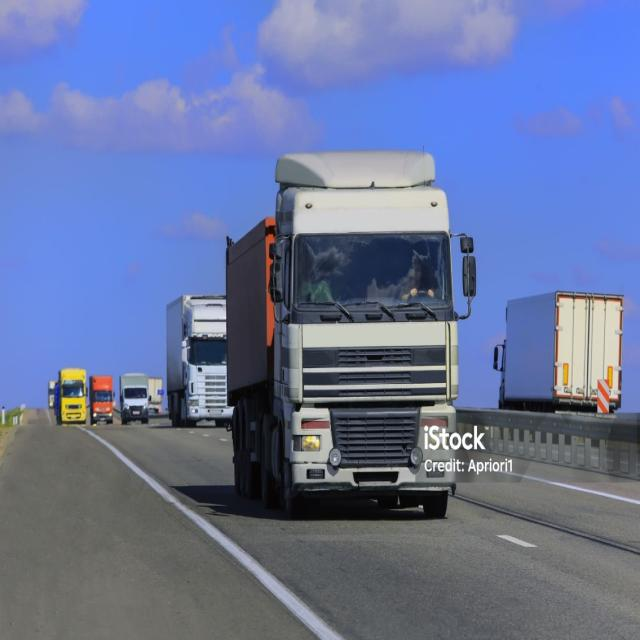truck: (224, 148, 476, 518), (492, 289, 624, 414), (165, 293, 234, 428), (53, 367, 87, 424), (120, 371, 151, 425), (88, 375, 115, 425)
